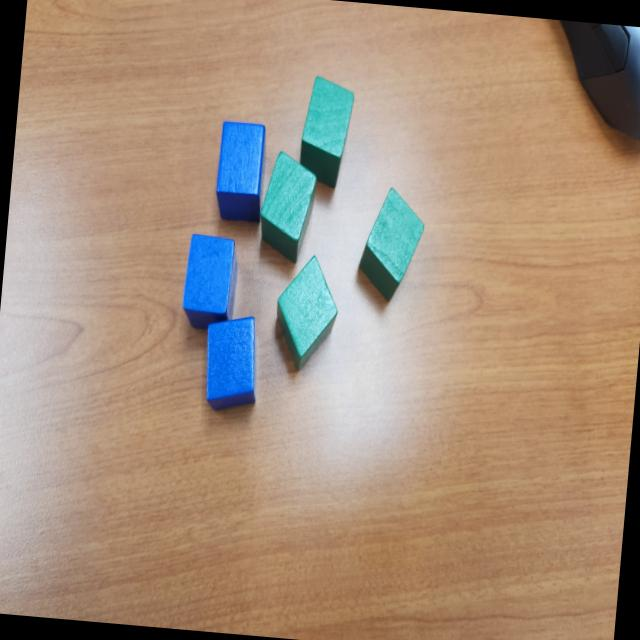blue: (180, 232, 241, 333), (202, 313, 262, 414), (212, 120, 268, 224)
green: (268, 248, 346, 375), (354, 182, 428, 305), (294, 70, 358, 192), (255, 145, 320, 265)
